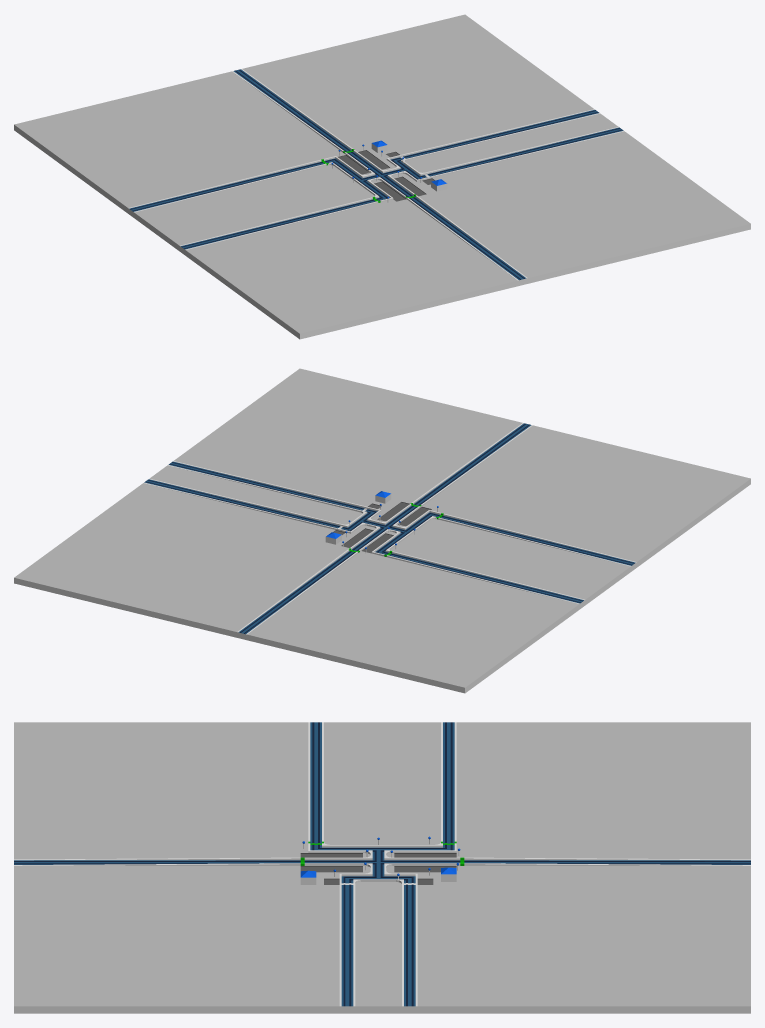
The model's file is Stage9.fbx.
3 renders of one model, top to bottom at view 1: azimuth 30°, elevation 25°; view 2: azimuth 150°, elevation 25°; view 3: azimuth 270°, elevation 25°, orthographic. The views are drawn at different scales.
Parts seen in each view (by area): view 1: Cube; view 2: Cube; view 3: Cube.
Part boxes in pixels (bbox=[...]): Cube: bbox=[14, 14, 750, 339]; Cube: bbox=[14, 368, 750, 693]; Cube: bbox=[14, 722, 750, 1013].
Size of the model in its own units: 16400 by 500 by 18000.
